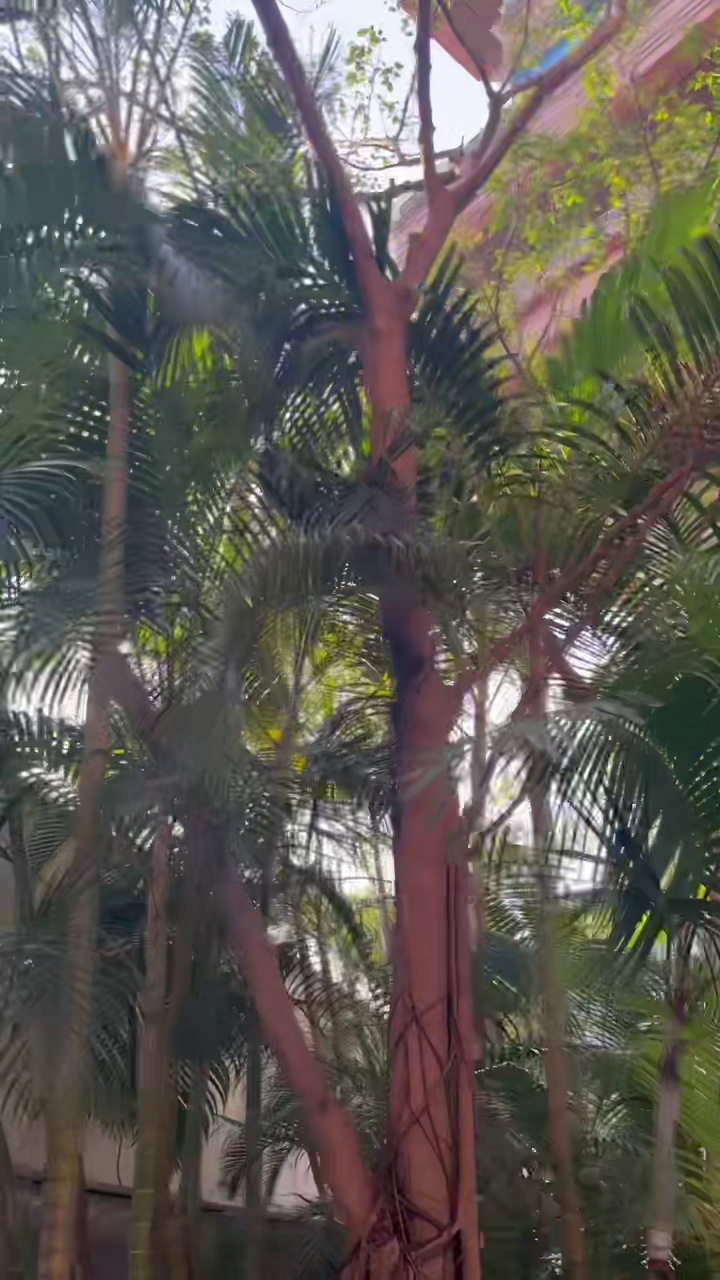Ficus benjamina: (233, 0, 619, 1279)
